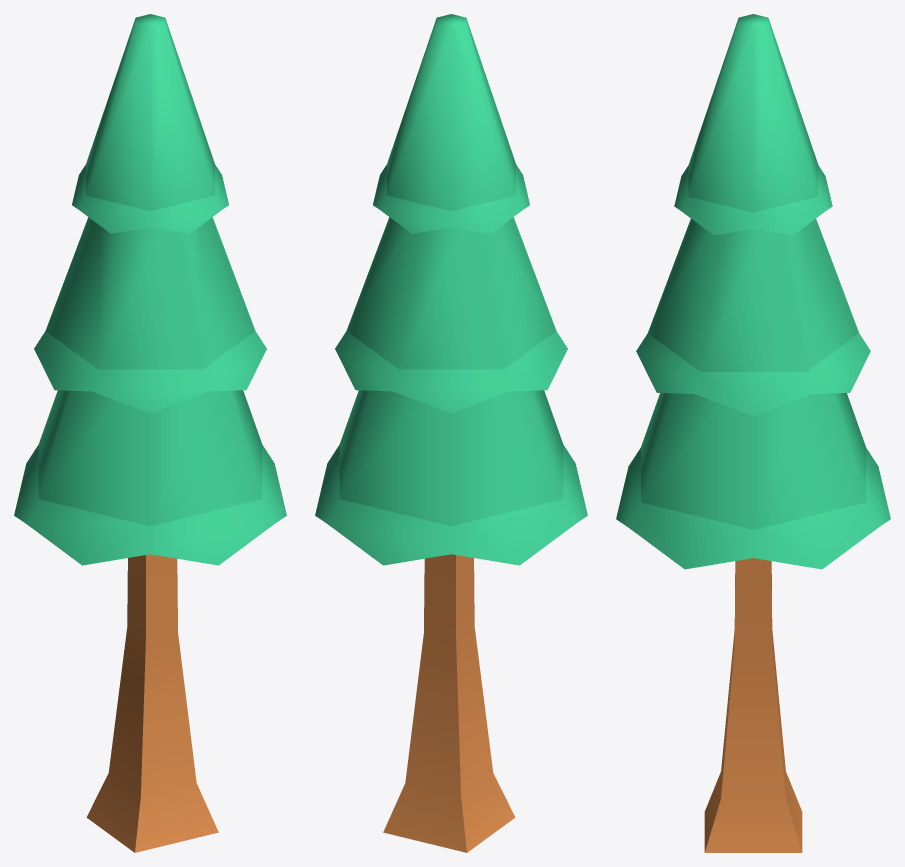
File: tree-large.glb
The picture shows the model from 3 angles, left to right: view 1: azimuth 30°, elevation 25°; view 2: azimuth 150°, elevation 25°; view 3: azimuth 270°, elevation 25°; orthographic projection.
Parts seen in each view (by area): view 1: treeLarge; view 2: treeLarge; view 3: treeLarge.
Part boxes in pixels (<box>): treeLarge: <box>14,14,286,852</box>; treeLarge: <box>315,14,587,852</box>; treeLarge: <box>616,14,890,852</box>.
Size of the model in its own units: 0.5529 by 1.71 by 0.5262.
